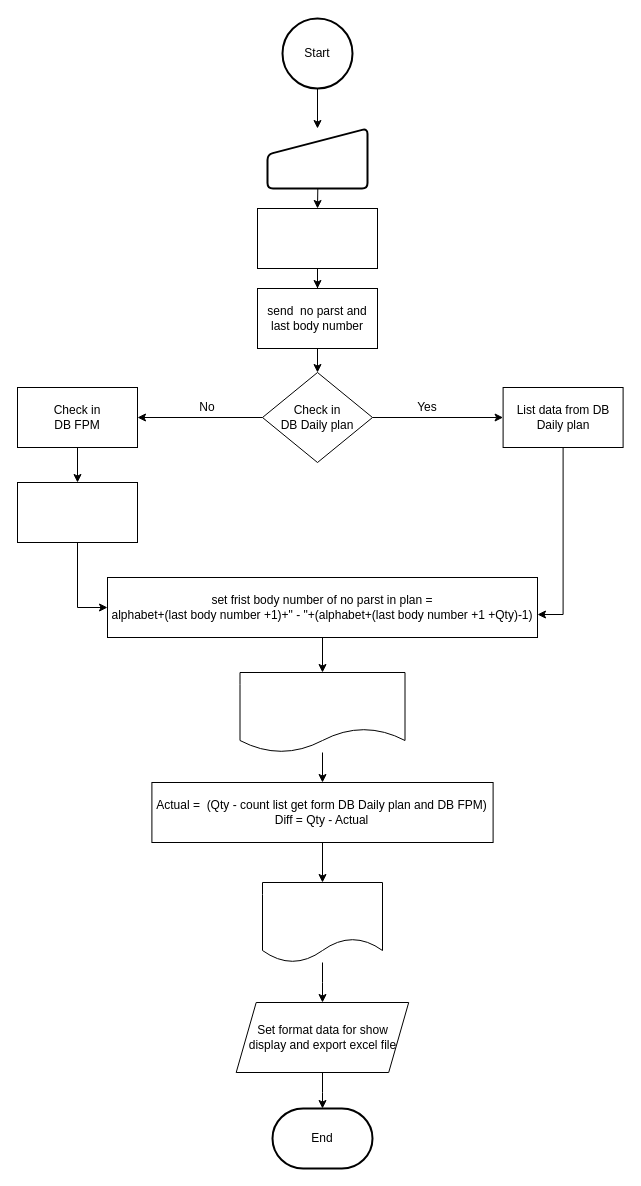
This 641x1186 diagram has some shape labels left out. Here are the shapes that lost their labels. From the top down, the box of each, then its label:
(266, 127, 368, 189): input PSWEEK
(256, 208, 378, 268): get no parst and last body number
(16, 482, 138, 542): List data from DB FPM
(239, 672, 405, 752): Last body number YLR01354 - YLR01354
(262, 882, 382, 962): Qty = 50 Actual = 35 Ditff = -15
